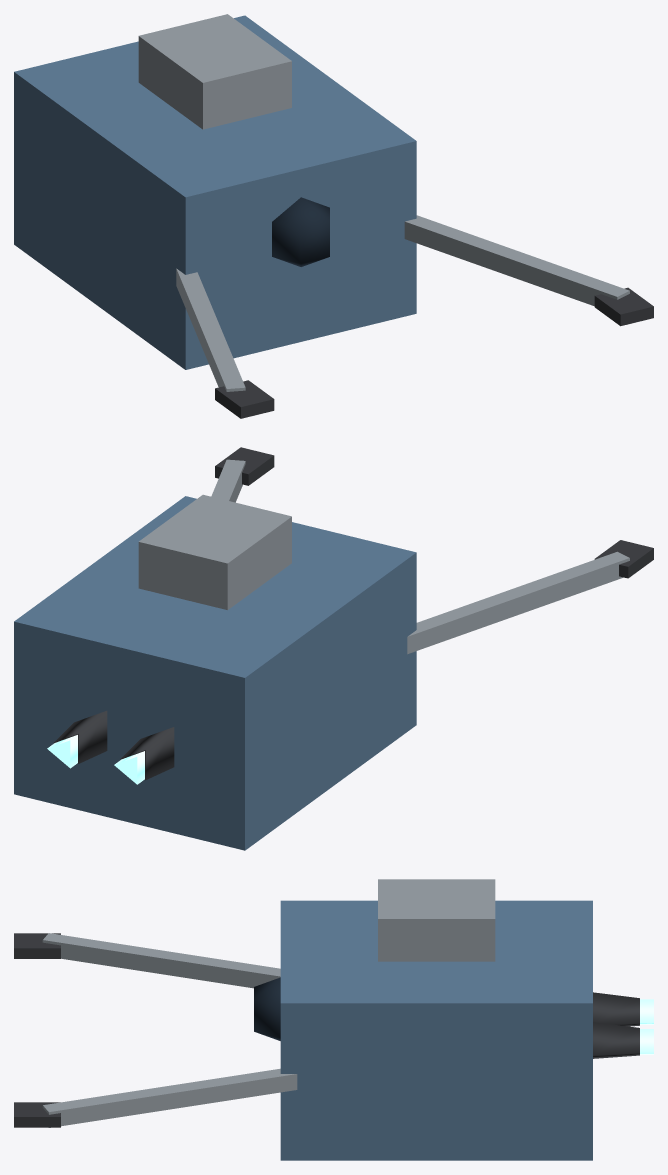
The model's file is space_ship_builder_drone_mk5_lod2.glb.
The picture shows the model from 3 angles, top to bottom: view 1: azimuth 30°, elevation 25°; view 2: azimuth 150°, elevation 25°; view 3: azimuth 270°, elevation 25°; orthographic projection. The views are drawn at different scales.
Visible parts, largest first — view 1: body, arm_1, arm_0; view 2: body, arm_0, engine_0, engine_1, arm_1; view 3: body, arm_1, arm_0, engine_1, engine_0.
Boxes of the visible parts, x1,y1,x2,y2 form: body: (14, 14, 416, 369); arm_1: (404, 215, 653, 326); arm_0: (176, 268, 274, 418); body: (14, 494, 416, 850); arm_0: (407, 540, 653, 654); engine_0: (114, 727, 174, 784); engine_1: (47, 710, 107, 768); arm_1: (211, 447, 274, 502); body: (254, 879, 592, 1160); arm_1: (14, 1068, 297, 1127); arm_0: (14, 933, 280, 988); engine_1: (593, 1022, 653, 1058); engine_0: (593, 992, 653, 1026).
Size of the model in its own units: 3.7 by 1.98 by 5.46.
